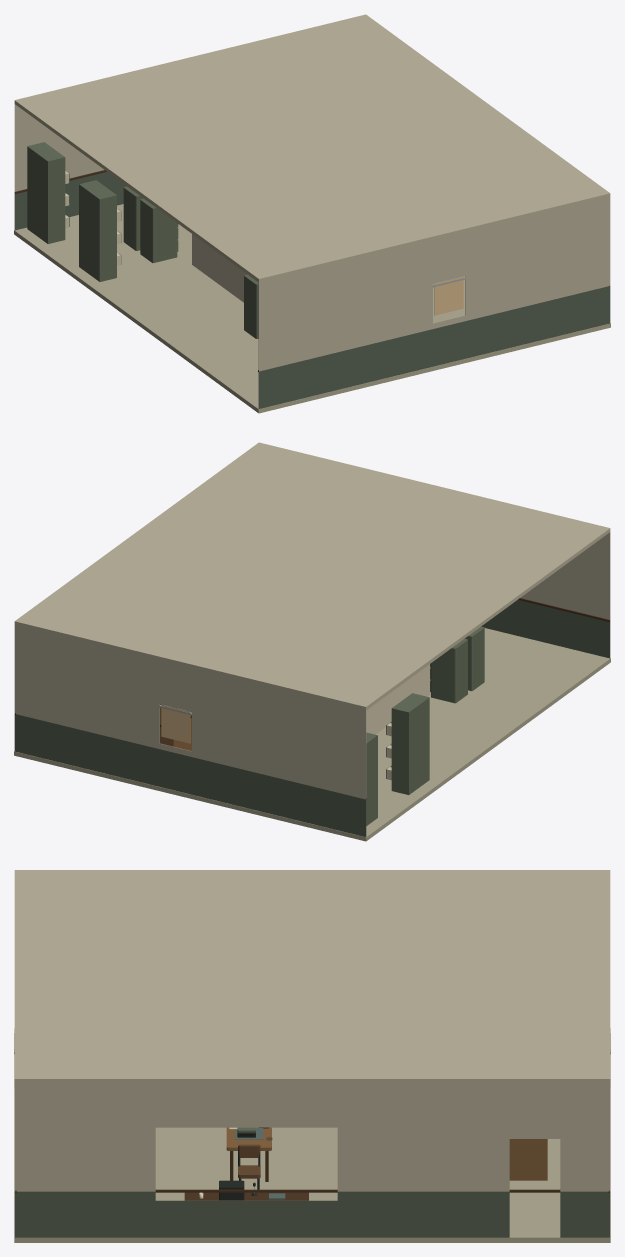
File: SM_Town_Sheriff_Interior_LOD1.fbx
The picture shows the model from 3 angles, top to bottom: view 1: azimuth 30°, elevation 25°; view 2: azimuth 150°, elevation 25°; view 3: azimuth 270°, elevation 25°; orthographic projection. The views are drawn at different scales.
Visible parts, largest first — view 1: SM_Town_Sheriff_Interior_LOD1; view 2: SM_Town_Sheriff_Interior_LOD1; view 3: SM_Town_Sheriff_Interior_LOD1.
Boxes of the visible parts, x1,y1,x2,y2 form: SM_Town_Sheriff_Interior_LOD1: (14, 14, 610, 413); SM_Town_Sheriff_Interior_LOD1: (14, 442, 610, 841); SM_Town_Sheriff_Interior_LOD1: (14, 870, 610, 1242).
Bounding box in the file's own units: 9.8 × 11.81 × 3.57.
